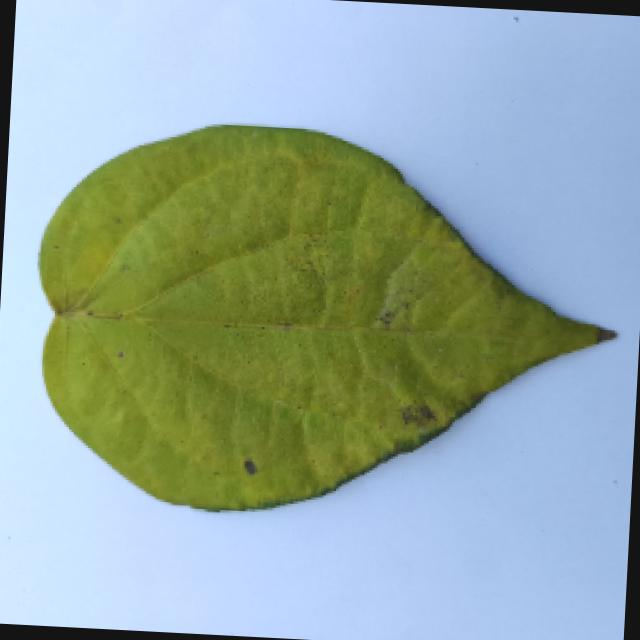slow-decline: (7, 85, 626, 538)
